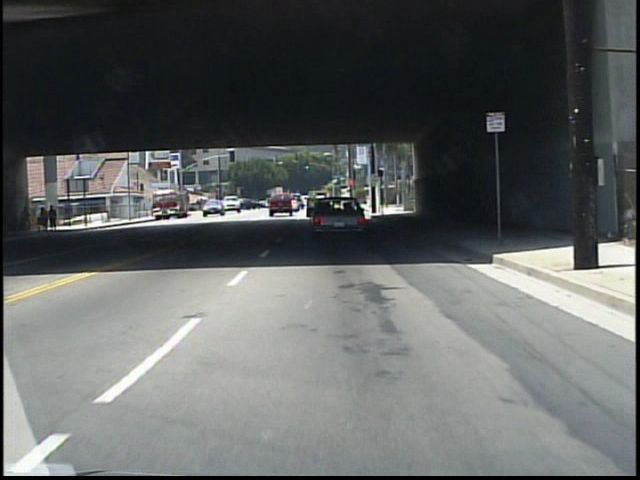person: (35, 205, 48, 233), (20, 204, 31, 235), (47, 204, 58, 233)
